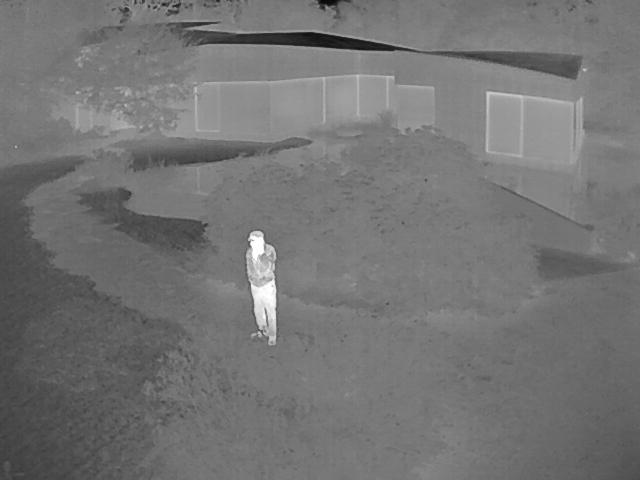person: (248, 230, 278, 347)
